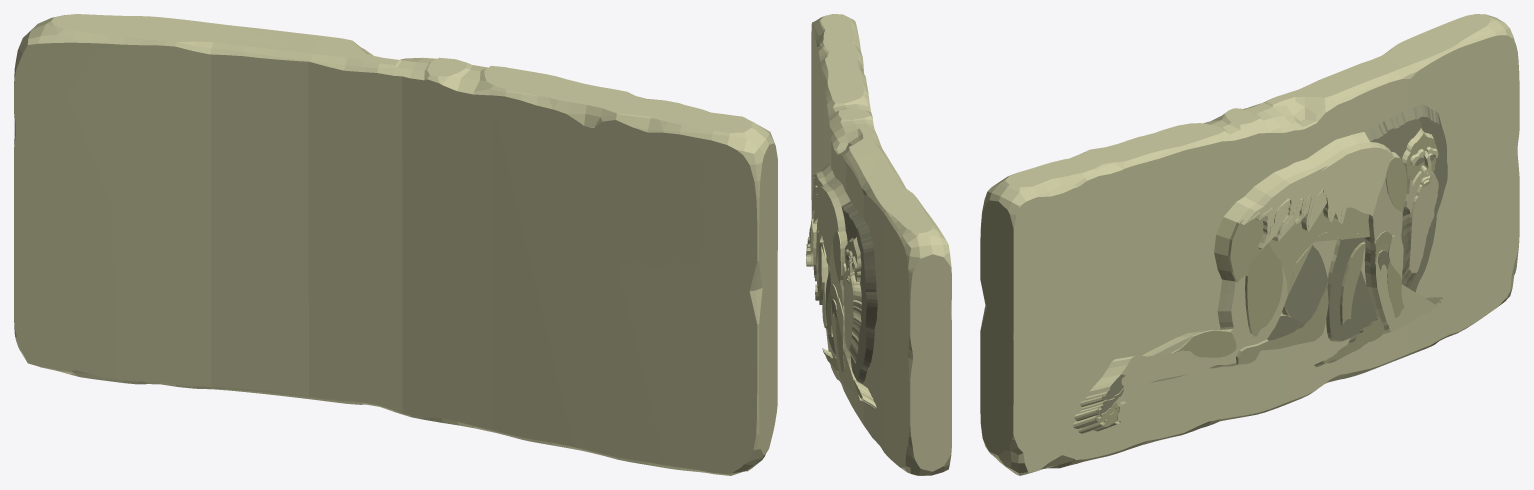
The model's file is NABU 1.fbx.
3 views of the same model, side by side, from view 1: azimuth 30°, elevation 25°; view 2: azimuth 150°, elevation 25°; view 3: azimuth 270°, elevation 25° (orthographic). The views are drawn at different scales.
Parts seen in each view (by area): view 1: Plane.016; view 2: Plane.016; view 3: Plane.016.
Part boxes in pixels (x1,y1,x2,y2): Plane.016: [14, 14, 777, 475]; Plane.016: [806, 14, 951, 475]; Plane.016: [980, 14, 1519, 475].
Size of the model in its own units: 1173 by 809 by 1361.
